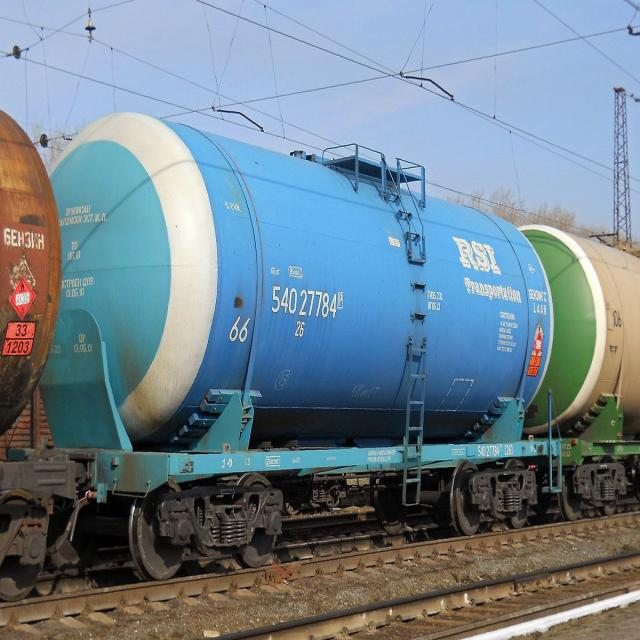tank: (41, 80, 558, 588), (0, 82, 72, 627), (530, 211, 640, 527)
